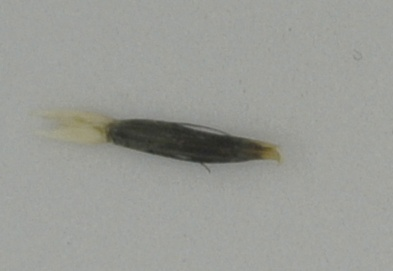เมล้ดปลายพู่กัน: (32, 104, 283, 176)
